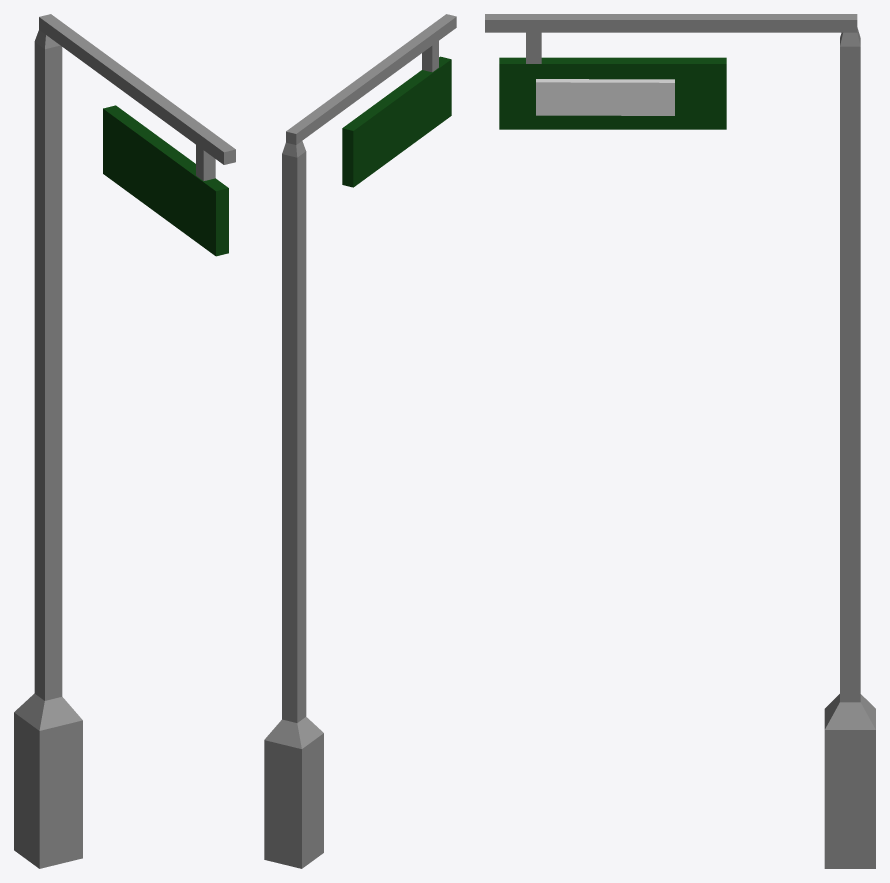
The model's file is Signal_04.FBX.
The picture shows the model from 3 angles, left to right: view 1: azimuth 30°, elevation 25°; view 2: azimuth 150°, elevation 25°; view 3: azimuth 270°, elevation 25°; orthographic projection. The views are drawn at different scales.
Visible parts, largest first — view 1: Signal_04; view 2: Signal_04; view 3: Signal_04.
Boxes of the visible parts, bbox=[...] form: Signal_04: bbox=[14, 14, 235, 868]; Signal_04: bbox=[264, 14, 456, 868]; Signal_04: bbox=[485, 14, 875, 868].
Size of the model in its own units: 0.5669 by 10.42 by 4.39.
